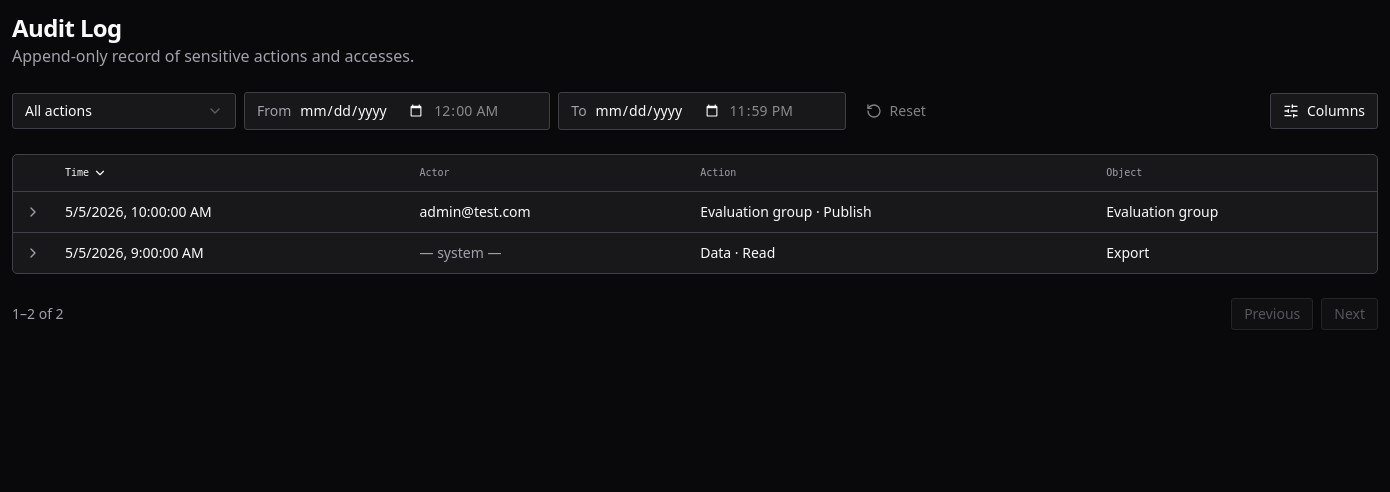
Test: AuditLogsListPage › reveals before/after on row expand
This screenshot has width=1390, height=492.
Check: the text "Before" is not shown
Click the button named "expand row" next to "5/5/2026, 10:00:00 AM" at (33,212), box left=25, top=204, right=41, bottom=220
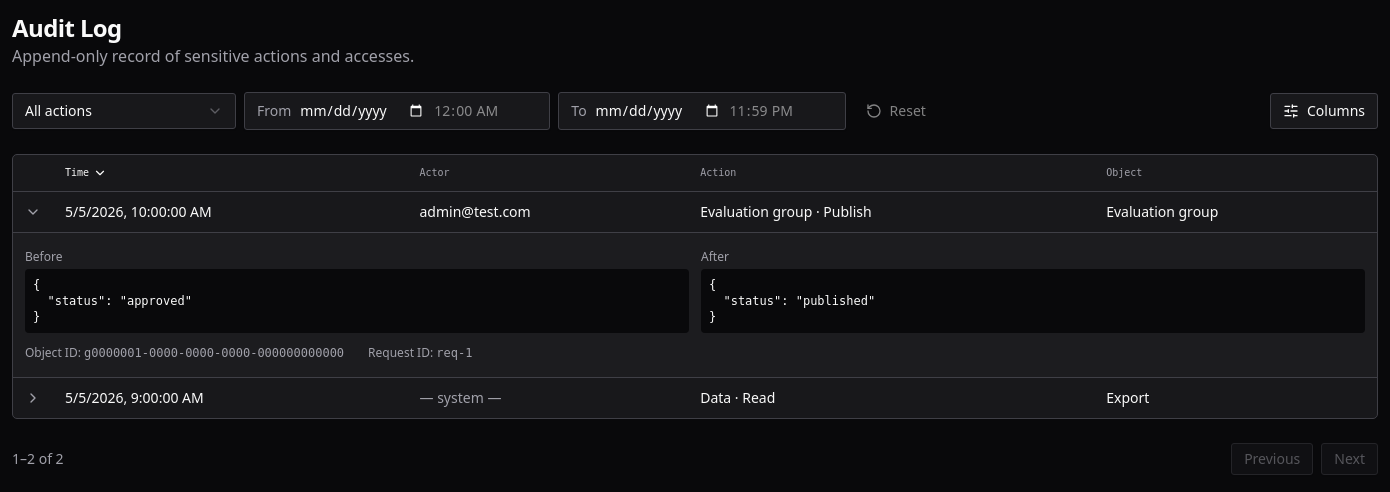
Check: the text "Before" is shown, box left=25, top=248, right=62, bottom=264
Check: the text "After" is shown, box left=701, top=248, right=729, bottom=264
Check: the text "g0000001-0000-0000-0000-000000000000" is shown, box left=84, top=346, right=344, bottom=360
